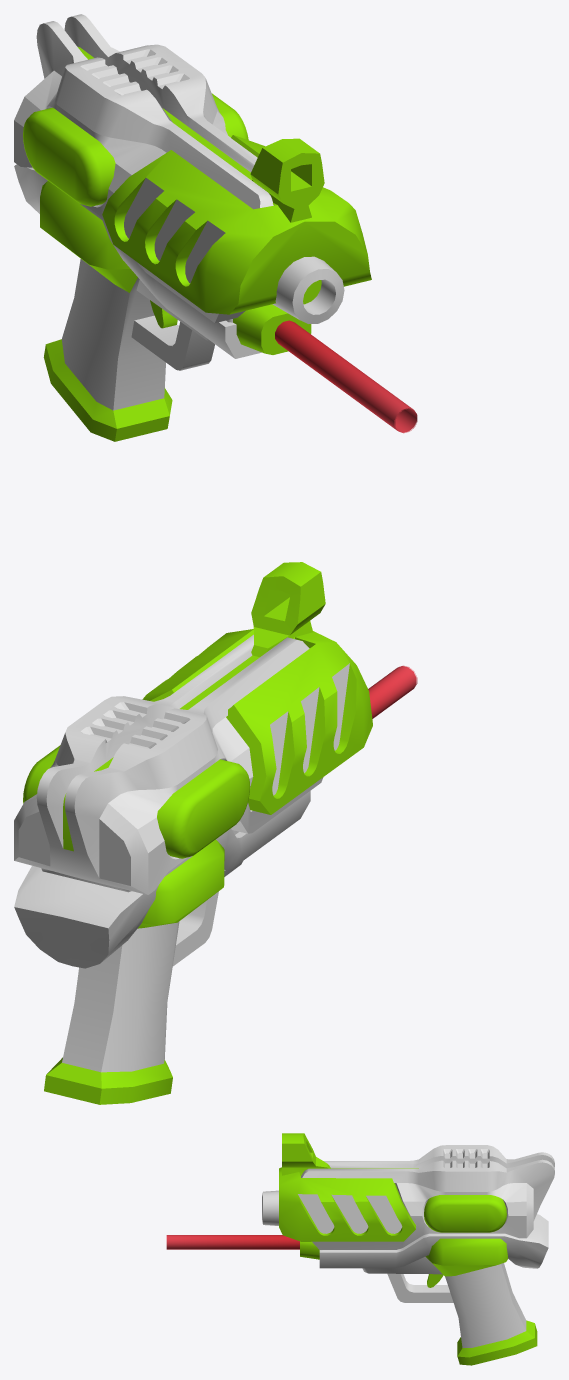
The model's file is Pistol A Mat.fbx.
3 renders of one model, top to bottom at view 1: azimuth 30°, elevation 25°; view 2: azimuth 150°, elevation 25°; view 3: azimuth 270°, elevation 25°, orthographic. The views are drawn at different scales.
Parts seen in each view (by area): view 1: Pistol A Mat, Pistol A Mat.001; view 2: Pistol A Mat, Pistol A Mat.001; view 3: Pistol A Mat, Pistol A Mat.001.
Part boxes in pixels (box(x1,y1,x2,y2)): Pistol A Mat: box(14, 14, 371, 441); Pistol A Mat.001: box(275, 320, 417, 433); Pistol A Mat: box(14, 562, 372, 1104); Pistol A Mat.001: box(368, 665, 417, 718); Pistol A Mat: box(262, 1133, 554, 1365); Pistol A Mat.001: box(166, 1235, 299, 1249).
Size of the model in its own units: 0.2376 by 0.5631 by 1.24.
